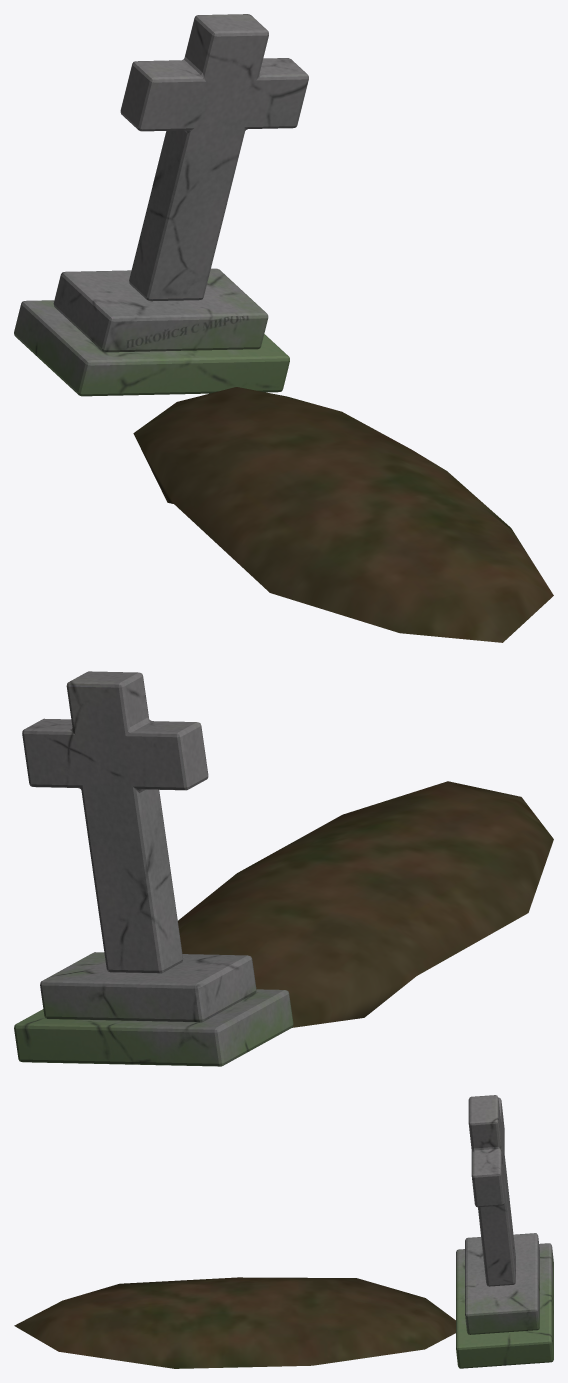
File: gravestone_cross_tilted_a.glb
3 renders of one model, top to bottom at view 1: azimuth 30°, elevation 25°; view 2: azimuth 150°, elevation 25°; view 3: azimuth 270°, elevation 25°, orthographic. The views are drawn at different scales.
Visible parts, largest first — view 1: gravestone_cross_tilted_a; view 2: gravestone_cross_tilted_a; view 3: gravestone_cross_tilted_a.
Part boxes in pixels (x1,y1,x2,y2): gravestone_cross_tilted_a: [14, 14, 553, 642]; gravestone_cross_tilted_a: [14, 671, 553, 1066]; gravestone_cross_tilted_a: [14, 1095, 553, 1368].
Size of the model in its own units: 0.9036 by 1.24 by 2.35.
2 materials, 2 textured.
